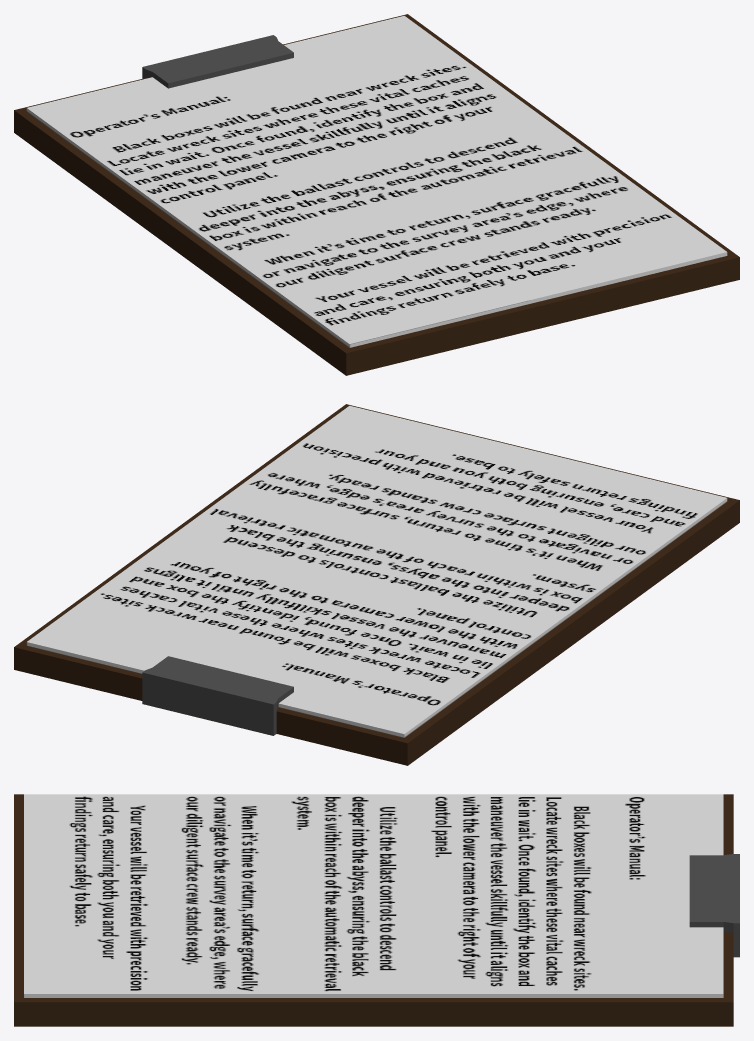
File: TechBoard.fbx
3 views of the same model, one above another, from view 1: azimuth 30°, elevation 25°; view 2: azimuth 150°, elevation 25°; view 3: azimuth 270°, elevation 25° (orthographic). The views are drawn at different scales.
Visible parts, largest first — view 1: Cube; view 2: Cube; view 3: Cube.
Boxes of the visible parts, bbox=[...] form: Cube: bbox=[14, 14, 739, 375]; Cube: bbox=[14, 404, 739, 765]; Cube: bbox=[14, 794, 739, 1026].
Size of the model in its own units: 200 by 15.31 by 295.
3 materials, 1 textured.
